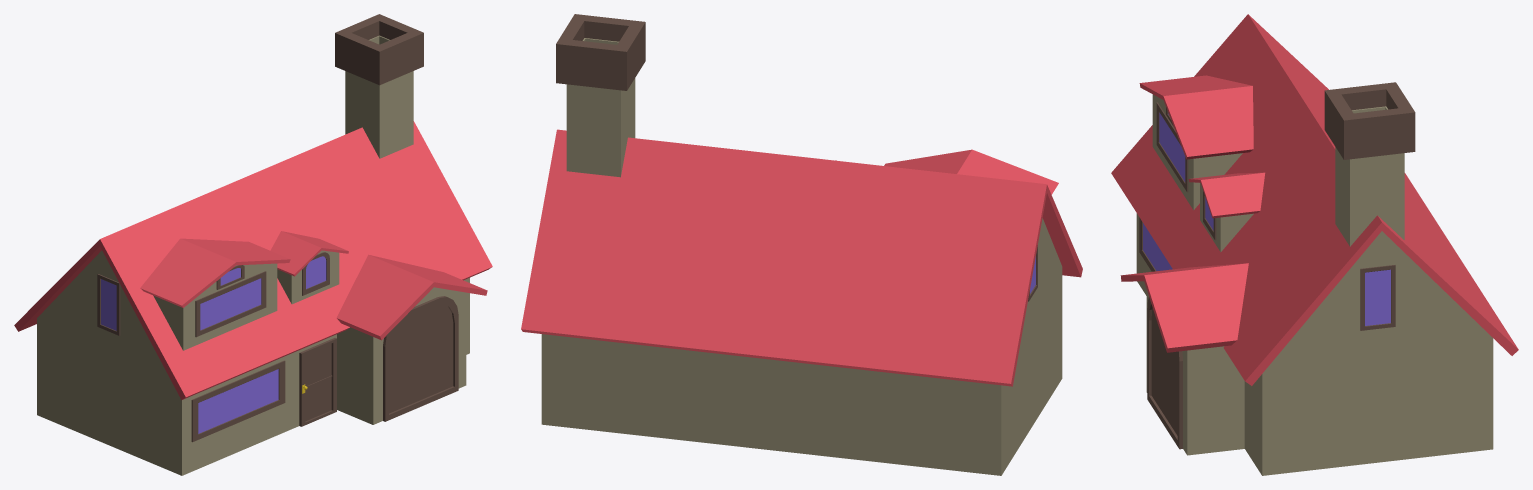
Rendered from CALLE1_CASA1_019.fbx.
3 views of the same model, side by side, from view 1: azimuth 30°, elevation 25°; view 2: azimuth 150°, elevation 25°; view 3: azimuth 270°, elevation 25° (orthographic). The views are drawn at different scales.
Parts seen in each view (by area): view 1: CASA1.019; view 2: CASA1.019; view 3: CASA1.019.
Part boxes in pixels (x1,y1,x2,y2): CASA1.019: [14, 14, 492, 475]; CASA1.019: [521, 14, 1082, 475]; CASA1.019: [1111, 14, 1518, 475].
Bounding box in the file's own units: 1081 × 734 × 777.
